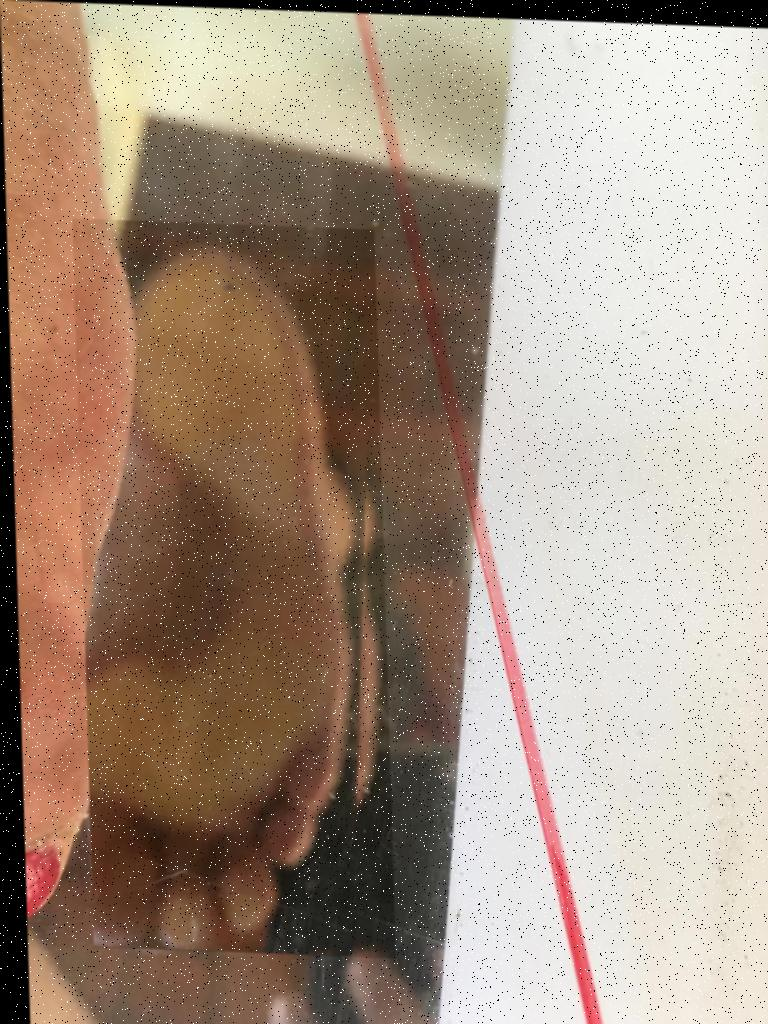Present: (72, 219, 392, 957)
